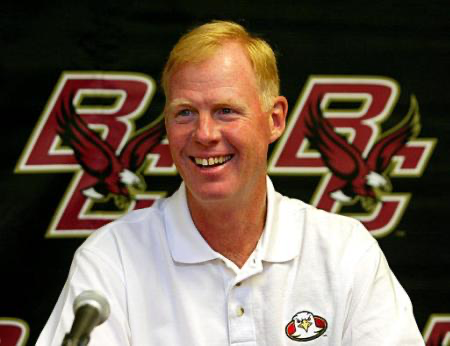Face: (166, 76, 270, 211)
